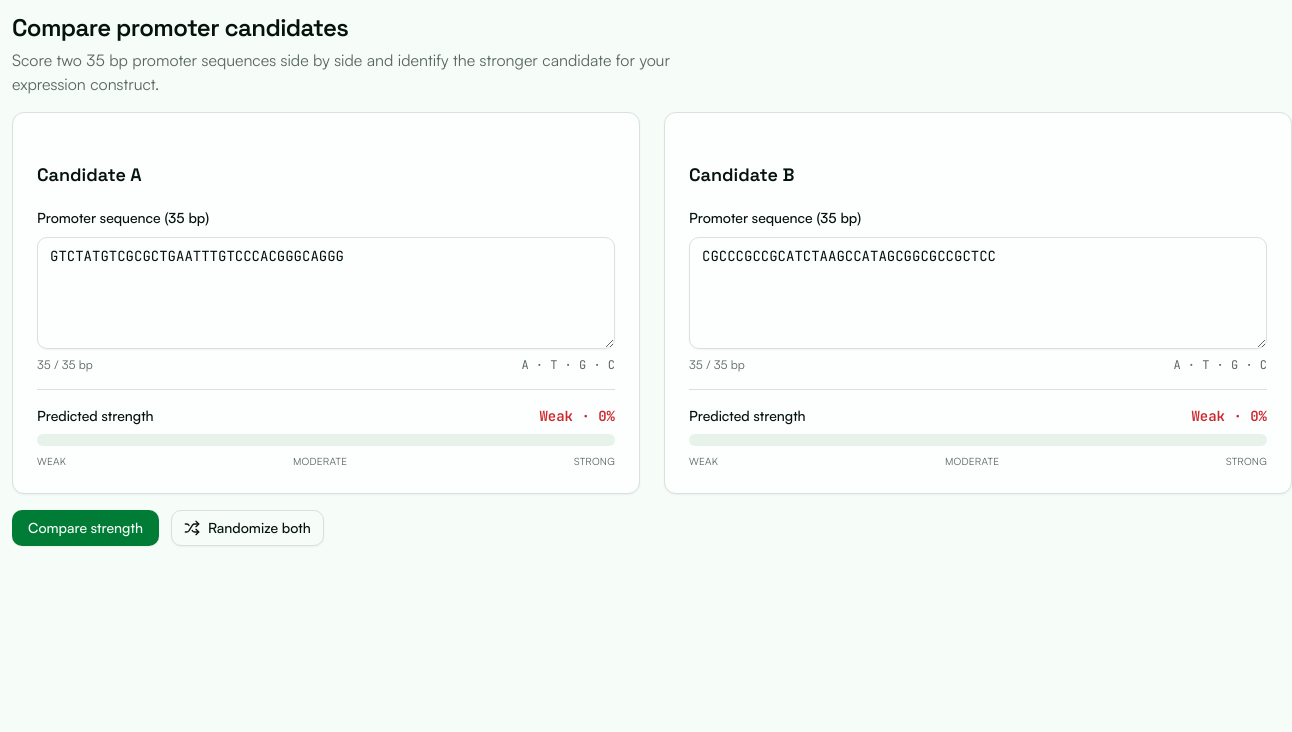
Test: ComparePage › highlights the stronger candidate after comparing
Replace the text in the text box with test id "sequence.input" with "TTGACGGCTAGCTCAGTCCTAGGTACAGTGCTAGC": (326, 293) [37, 237, 615, 349]
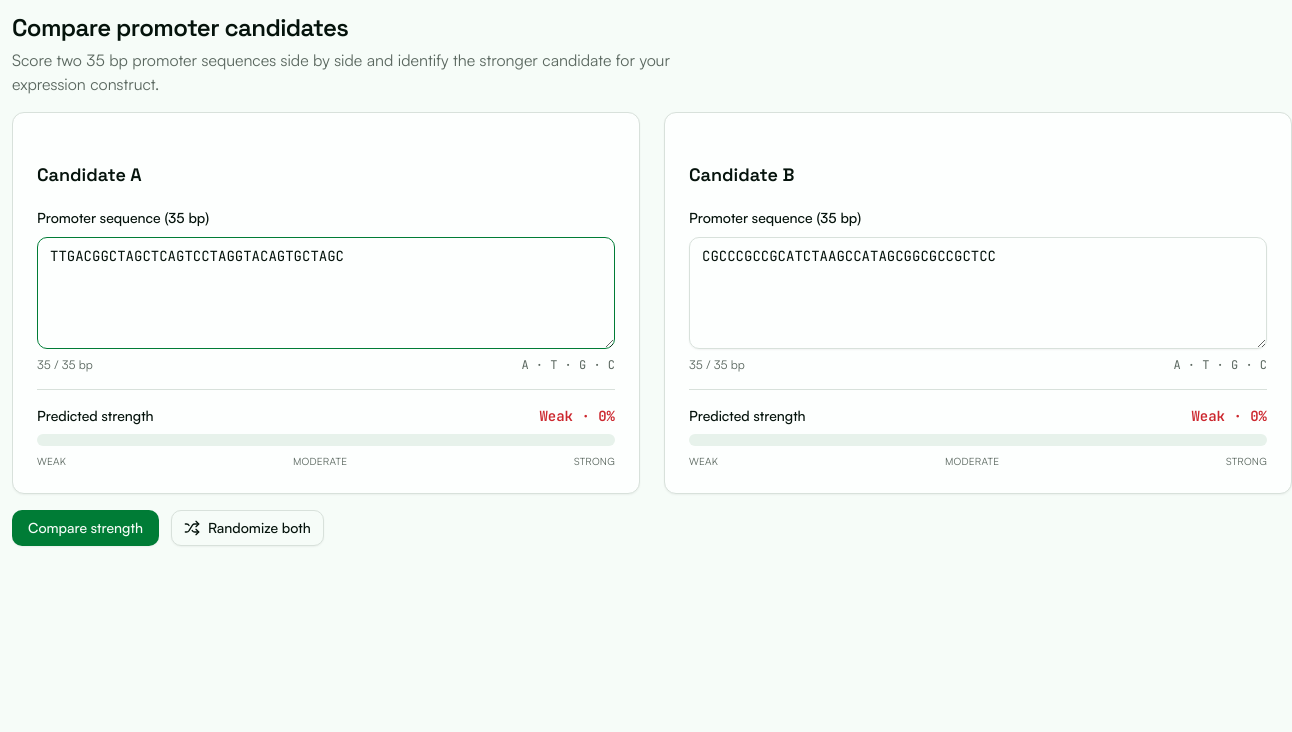
Replace the text in the text box with test id "sequence.input" with "TTTACAGCTAGCTCAGTCCTAGGTATTATGCTAGC": (978, 293) [689, 237, 1267, 349]
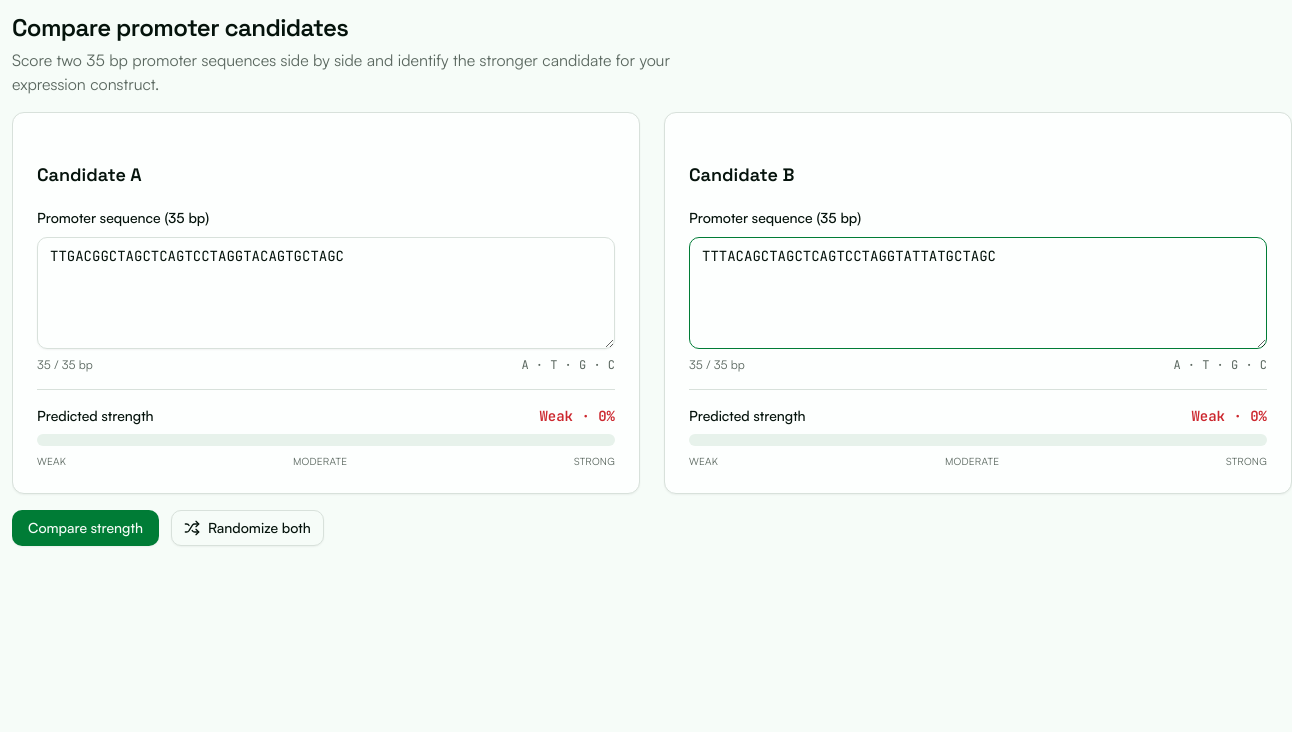
Click the button with test id "compare_button": (85, 528) [12, 510, 159, 546]
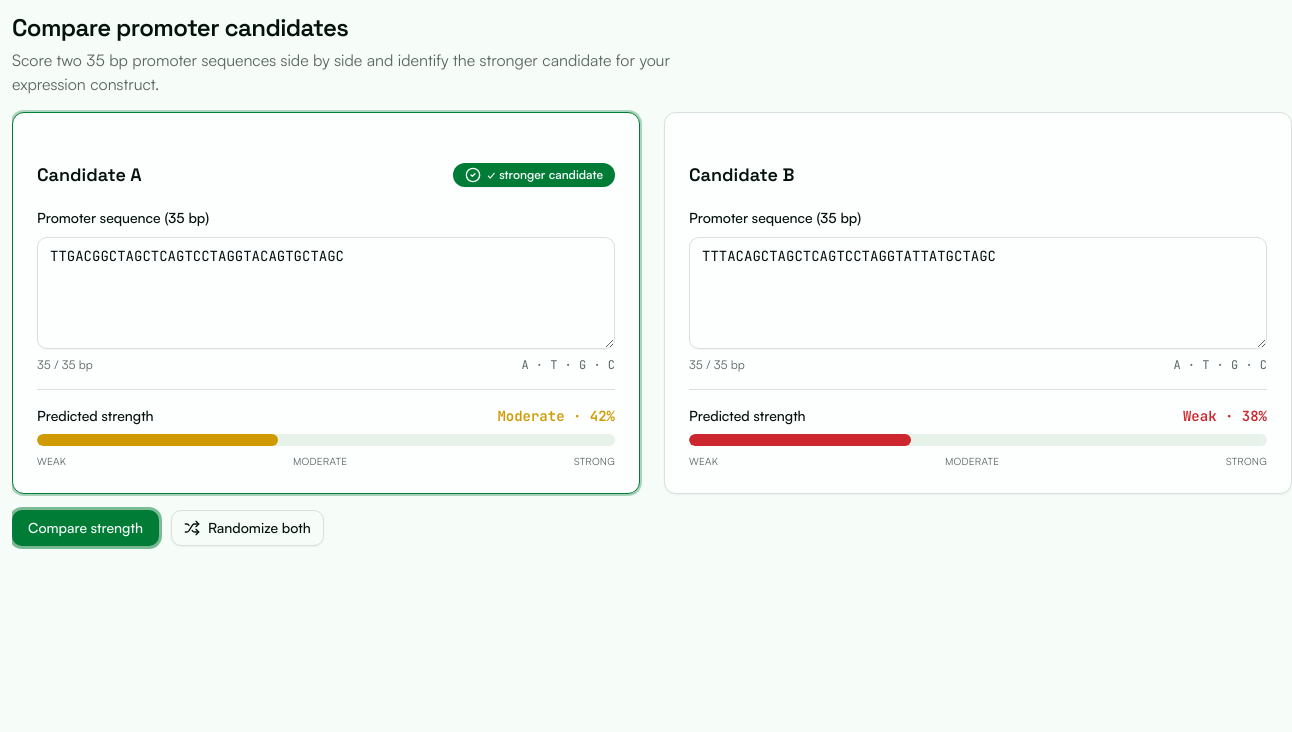
Expected: the text "✓ stronger candidate" is shown once, [453, 163, 615, 187]
